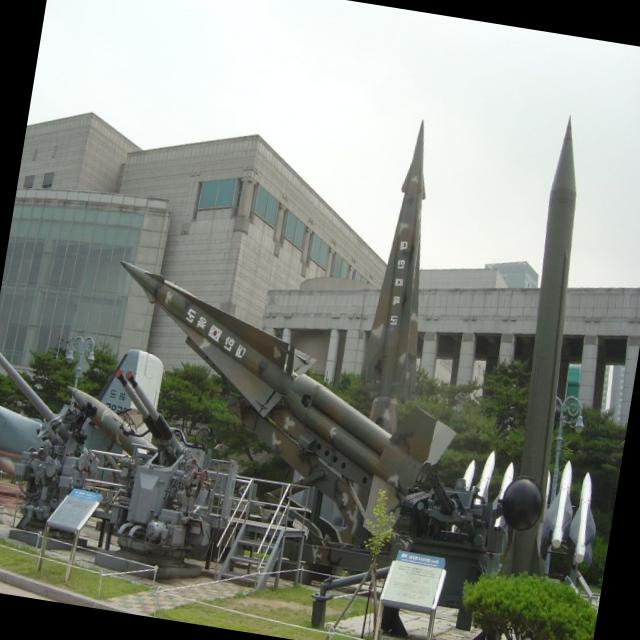rocket: (91, 252, 357, 467), (502, 114, 615, 499), (356, 120, 455, 427)
